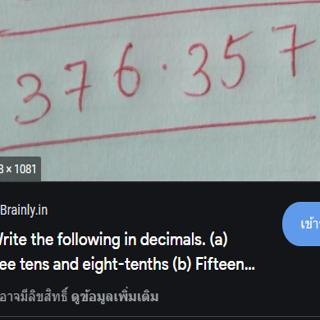.: (154, 59, 172, 73)
0: (19, 161, 26, 175)
1: (32, 159, 42, 178), (11, 160, 19, 176)
3: (16, 72, 53, 128), (185, 41, 211, 98)
5: (222, 33, 253, 91)
6: (117, 43, 144, 99)
7: (269, 23, 314, 75), (65, 60, 91, 108)
8: (26, 158, 32, 175)
